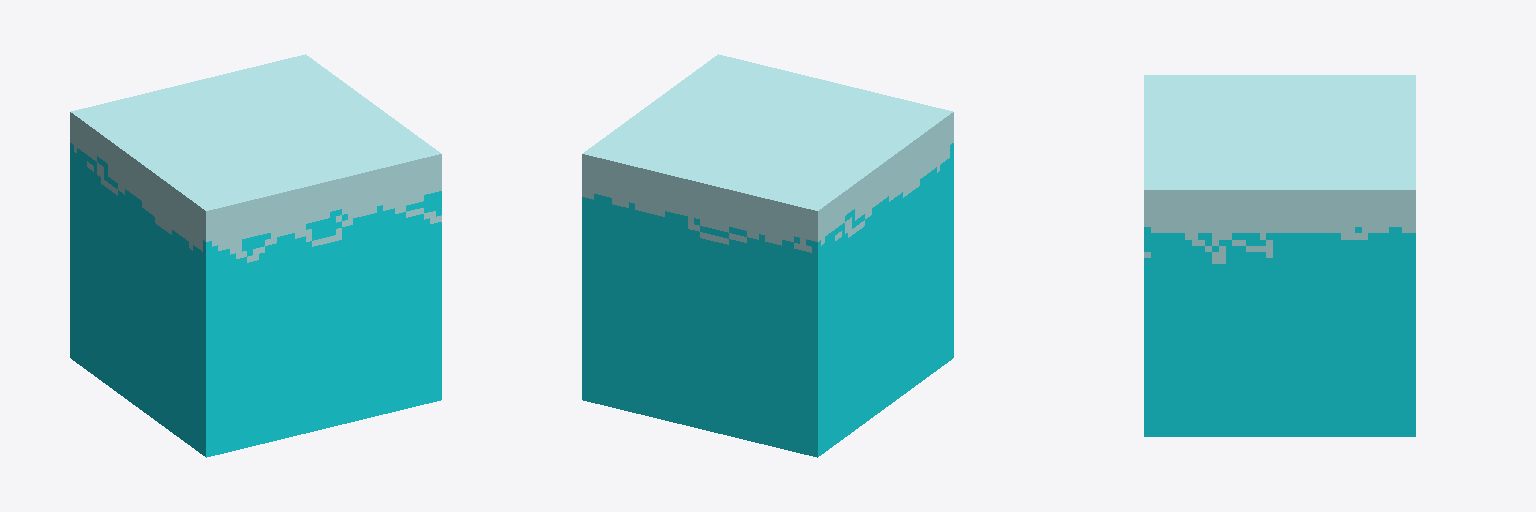
3 views of the same model, side by side, from view 1: azimuth 30°, elevation 25°; view 2: azimuth 150°, elevation 25°; view 3: azimuth 270°, elevation 25° (orthographic).
Parts seen in each view (by area): view 1: object 1; view 2: object 1; view 3: object 1.
Boxes of the visible parts, x1=… form: object 1: x1=70, y1=54, x2=441, y2=457; object 1: x1=582, y1=54, x2=953, y2=457; object 1: x1=1144, y1=75, x2=1415, y2=436.
Bounding box in the file's own units: 4 × 4 × 4.
Materials: 1 (1 with a texture image).